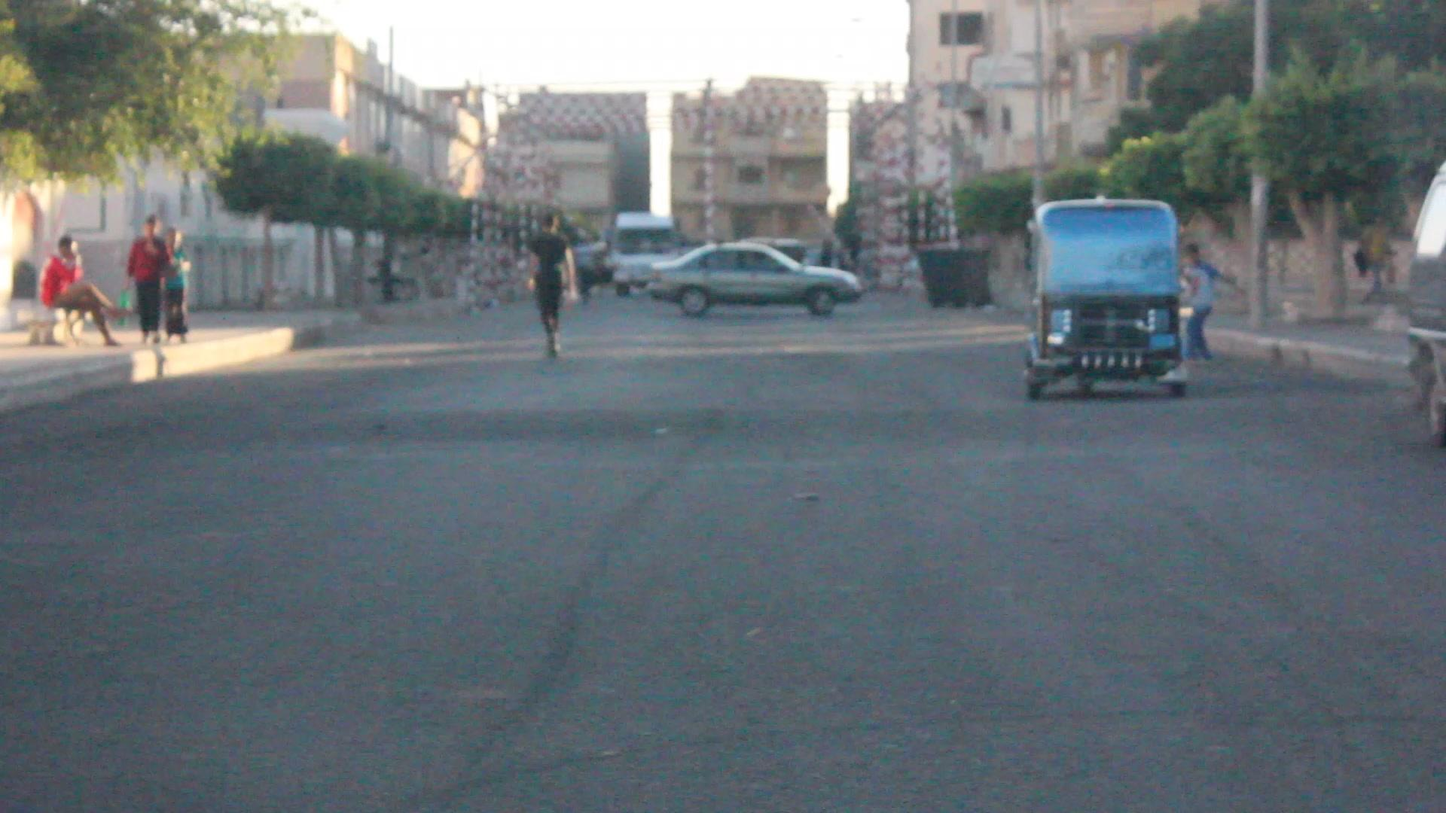Bump: (0, 376, 1435, 434)
